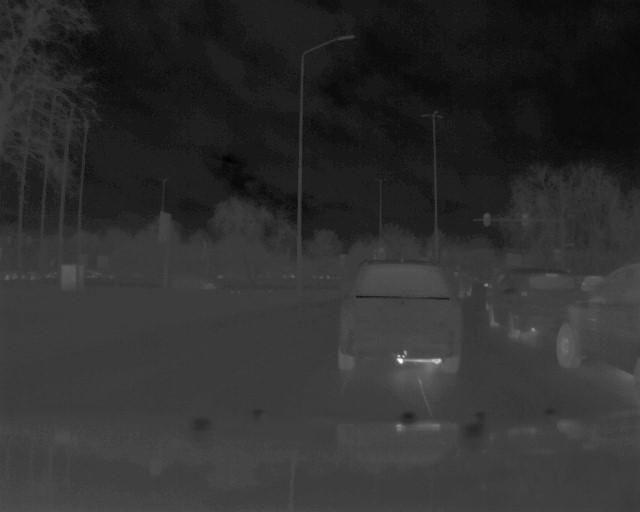car: (333, 256, 467, 378), (554, 259, 640, 391), (483, 262, 564, 348)
